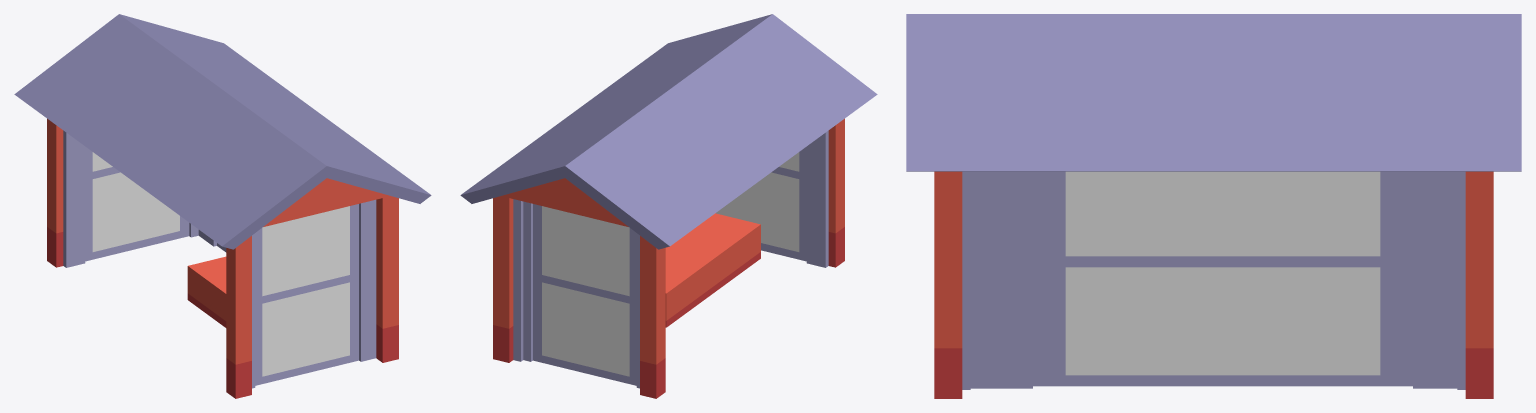
The model's file is busstop.fbx.
3 renders of one model, left to right at view 1: azimuth 30°, elevation 25°; view 2: azimuth 150°, elevation 25°; view 3: azimuth 270°, elevation 25°, orthographic. The views are drawn at different scales.
Visible parts, largest first — view 1: mergedBlocks; view 2: mergedBlocks; view 3: mergedBlocks.
Part boxes in pixels (x1=…): mergedBlocks: x1=14, y1=14, x2=431, y2=398; mergedBlocks: x1=460, y1=14, x2=877, y2=398; mergedBlocks: x1=906, y1=14, x2=1521, y2=398.
Size of the model in its own units: 12.83 by 12.85 by 22.
